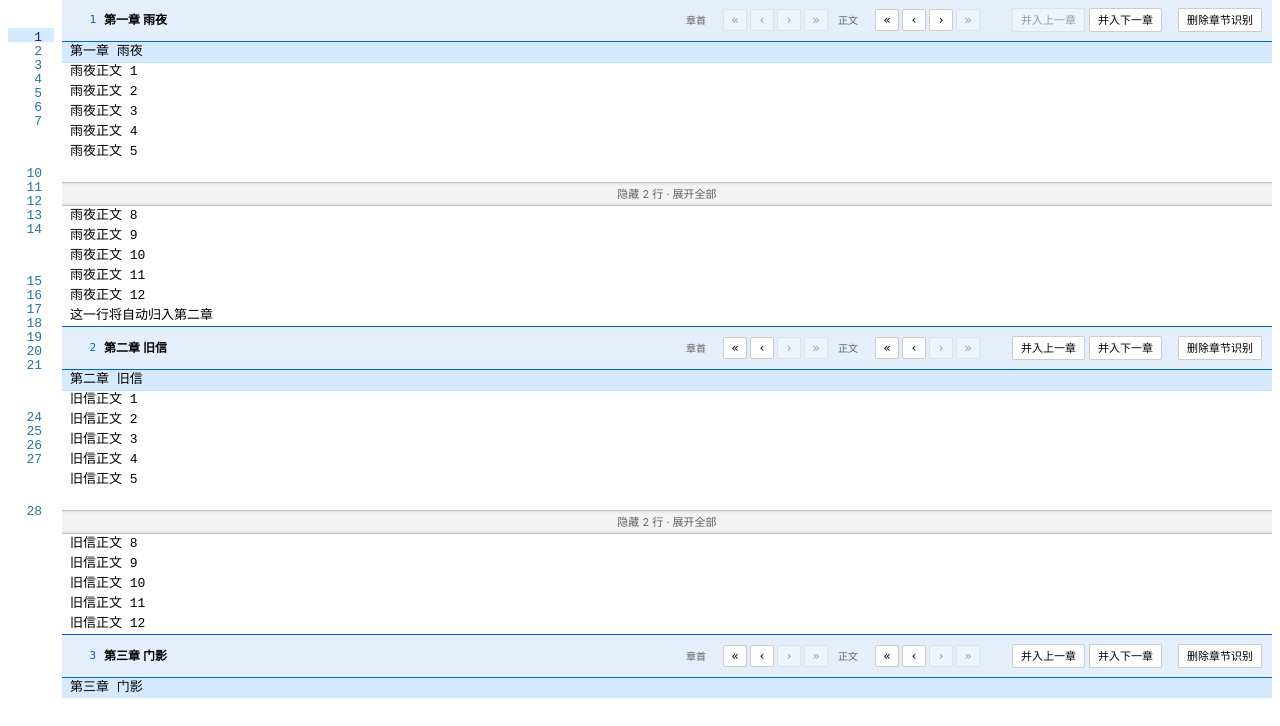
Test: project workspace controllers › 边界图标只修改本地草稿，Footer 确认后才批量提交
Click the button named "进": (941, 20) left=929, top=9, right=953, bottom=31
(page scrolled)
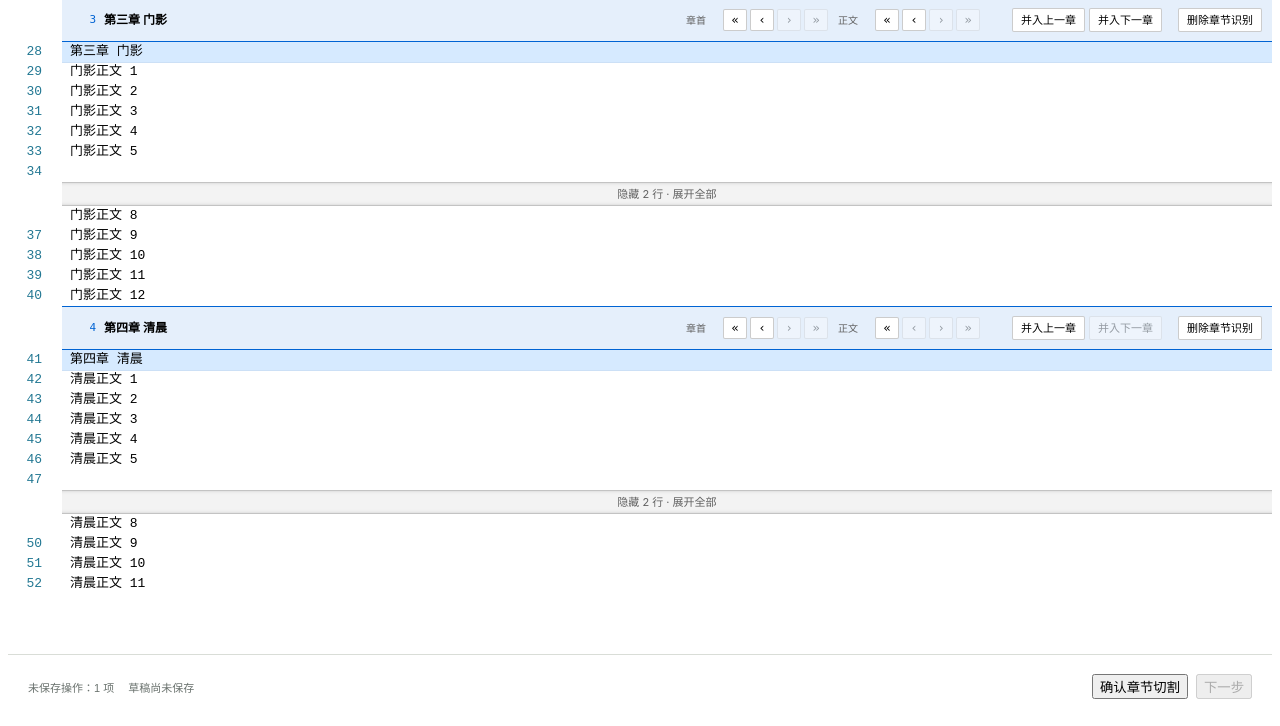
Expected: the button with test id "next-proofreading" is disabled, left=1196, top=674, right=1252, bottom=699
Expected: the text with test id "chapter-operation-count" shows "1", left=28, top=682, right=114, bottom=694
Expected: the text with test id "chapter-structure-status" reads "草稿尚未保存", left=128, top=682, right=194, bottom=694
Click the button with test id "confirm-chapter-cut": (1140, 686) left=1092, top=674, right=1188, bottom=699
(page scrolled)
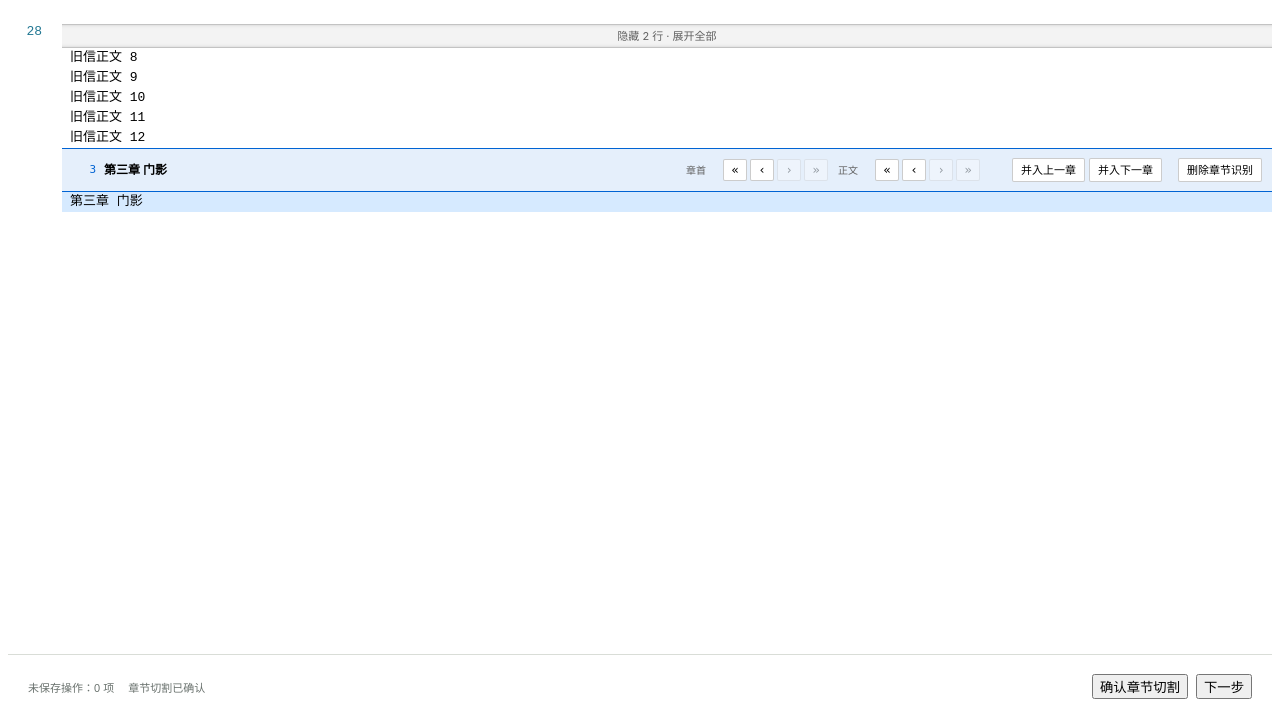
Expected: the text with test id "chapter-operation-count" shows "0", left=28, top=682, right=114, bottom=694
